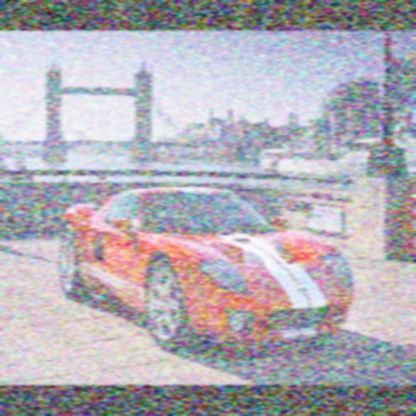Vehicle: (58, 188, 356, 350)
